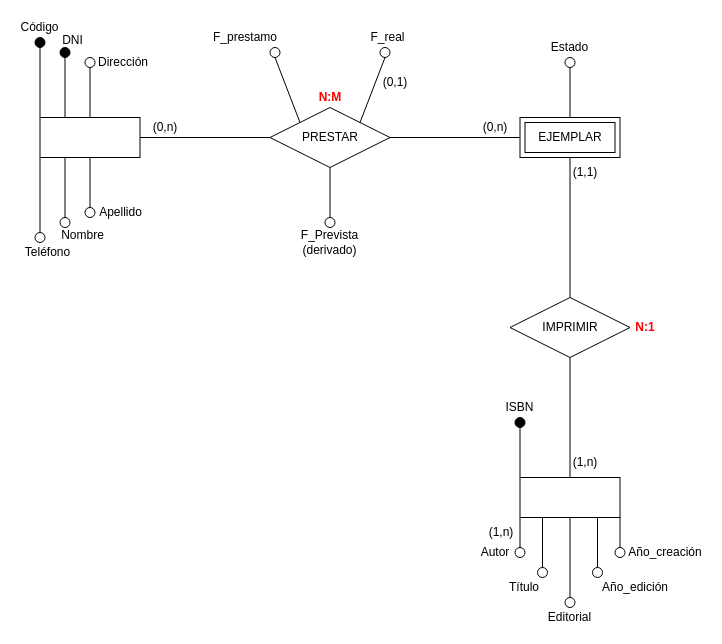
Some shapes in this 722 by 644 pixel diagram are drawn without their labels. Here are the shapes that lost their labels. From the top down, the centre of each, then its label:
the point at 89,137: SOCIO
the point at 569,497: LIBRO
